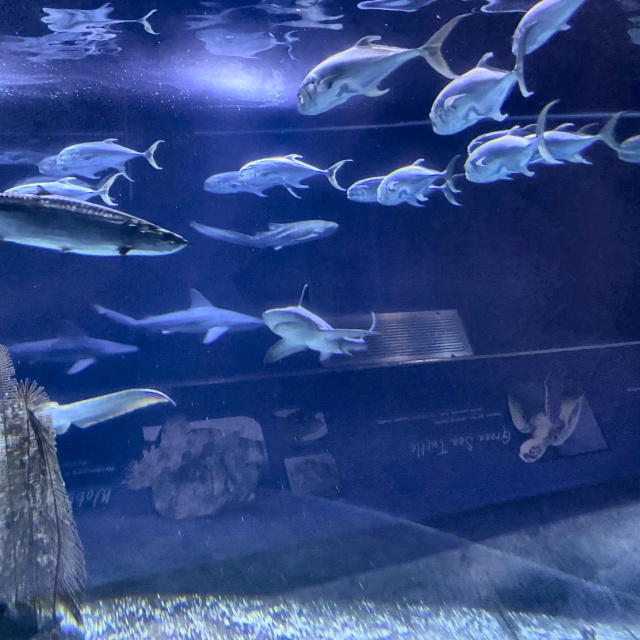fish: (291, 26, 458, 113), (0, 189, 201, 256), (420, 56, 528, 141), (460, 107, 563, 185), (500, 0, 596, 59), (189, 217, 333, 254), (528, 113, 617, 163), (371, 157, 461, 206), (55, 136, 170, 172), (465, 122, 563, 161), (238, 155, 348, 189), (0, 181, 136, 208), (335, 178, 466, 205), (200, 169, 307, 201), (33, 152, 129, 177), (614, 132, 639, 169)
shark: (102, 298, 260, 343), (265, 307, 384, 363), (1, 327, 136, 372)
